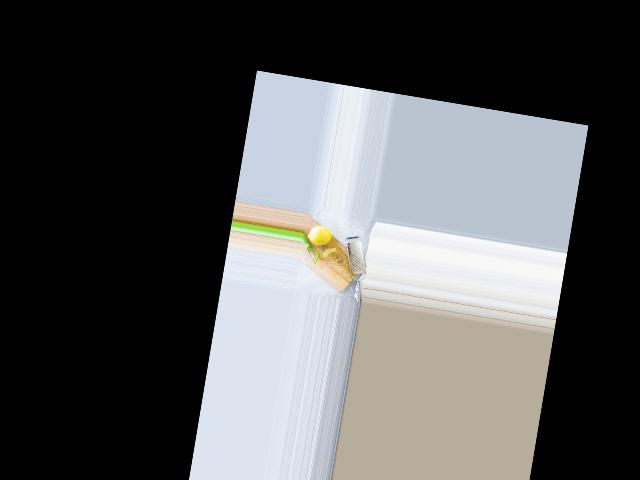lemon: (306, 223, 333, 247)
